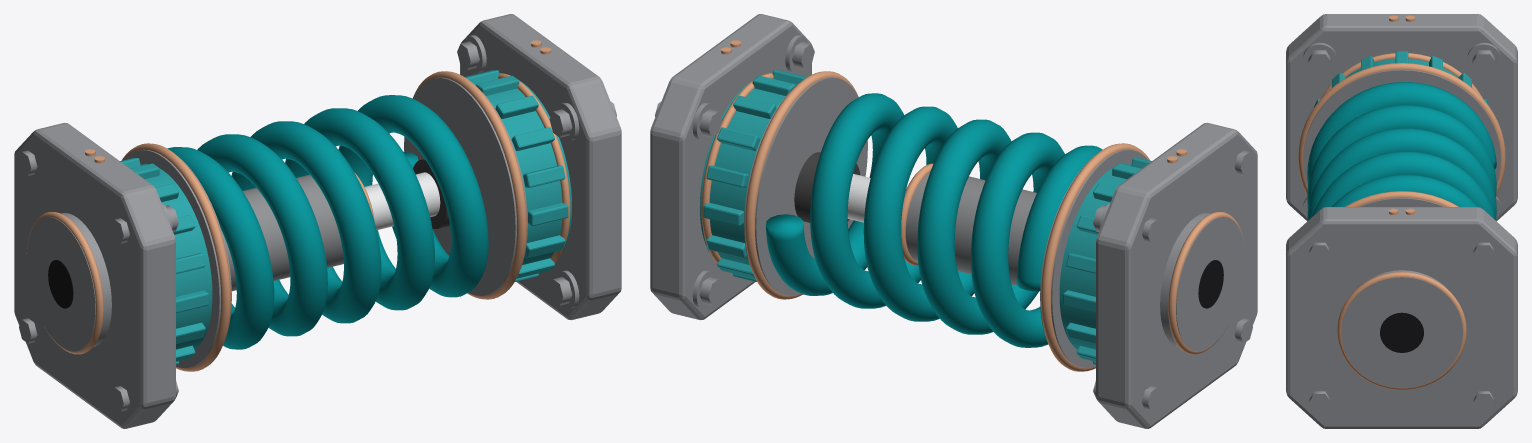
File: sport_suspension_2.glb
The picture shows the model from 3 angles, left to right: view 1: azimuth 30°, elevation 25°; view 2: azimuth 150°, elevation 25°; view 3: azimuth 270°, elevation 25°; orthographic projection. The views are drawn at different scales.
Visible parts, largest first — view 1: mountFlex, Stator, mount; view 2: mountFlex, Stator, mount; view 3: mount, Stator, mountFlex.
Part boxes in pixels (bbox=[...]): mountFlex: bbox=[167, 95, 488, 349]; Stator: bbox=[14, 122, 231, 428]; mount: bbox=[404, 14, 621, 320]; mountFlex: bbox=[766, 93, 1102, 347]; Stator: bbox=[1040, 122, 1257, 428]; mount: bbox=[650, 14, 867, 320]; mount: bbox=[1286, 191, 1517, 428]; Stator: bbox=[1286, 14, 1517, 221]; mountFlex: bbox=[1307, 82, 1496, 220].
Size of the model in its own units: 0.501 by 0.2225 by 0.22.
